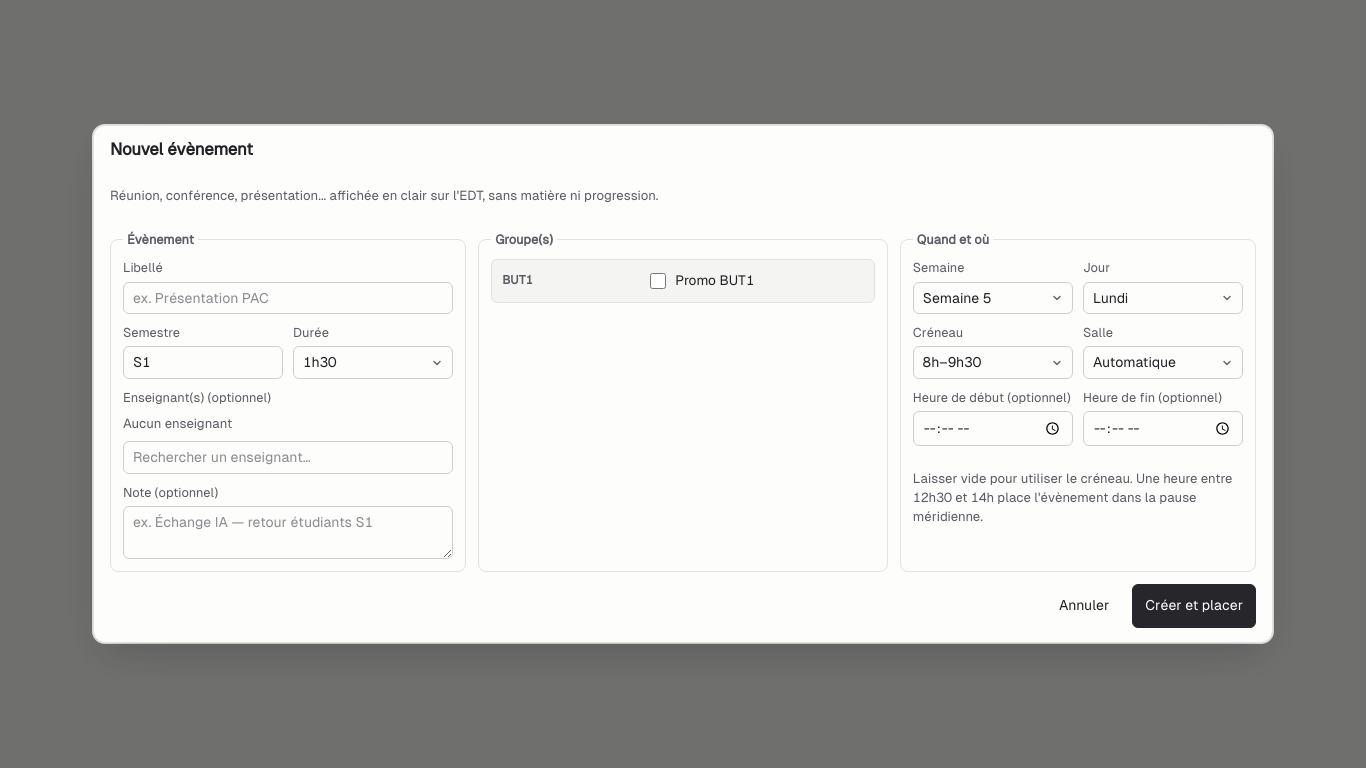
CreerEvenementModal › should refuse heure_debut without heure_fin
Type "Présentation PAC" into the field with placeholder "ex. Présentation PAC". click: {"x": 288, "y": 298}
box: [123, 282, 453, 314]
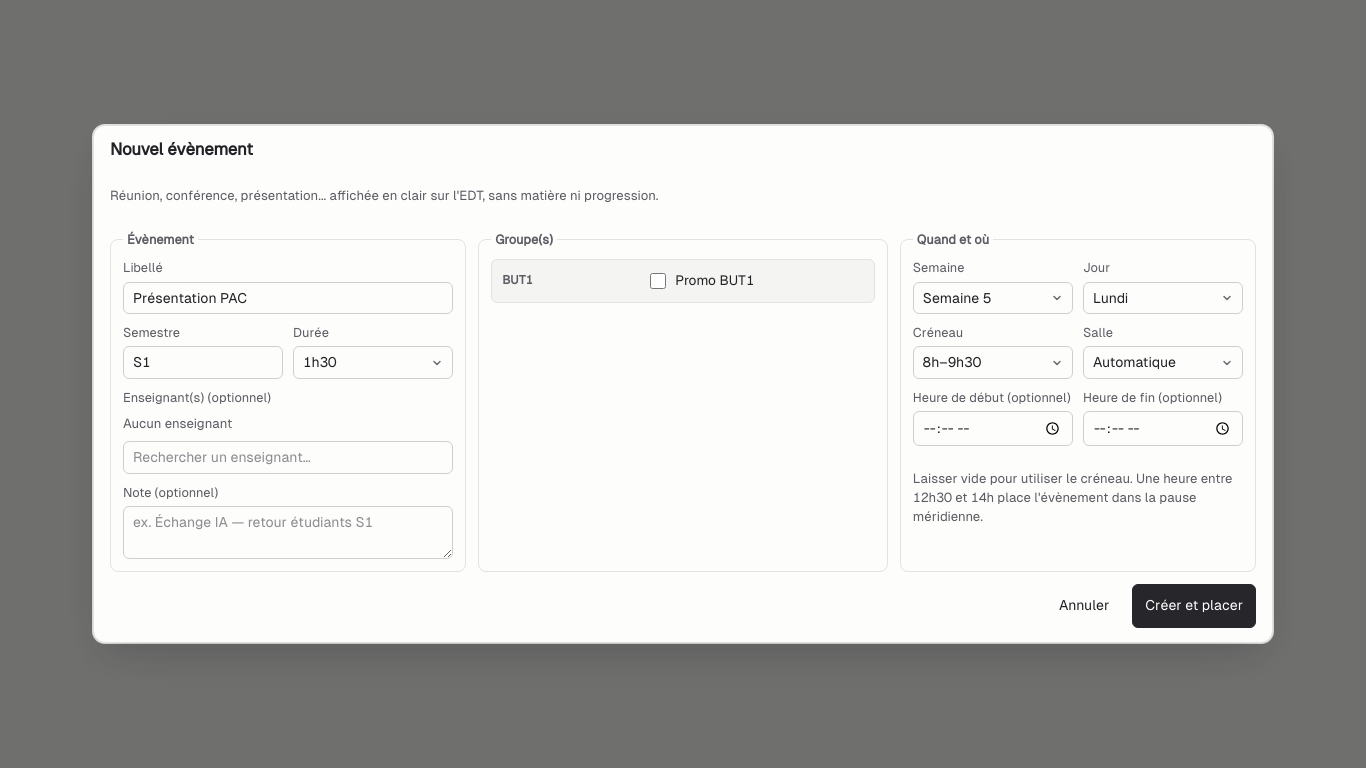
Click the checkbox labelled "Promo BUT1". click: {"x": 658, "y": 281}
box: [650, 273, 666, 289]
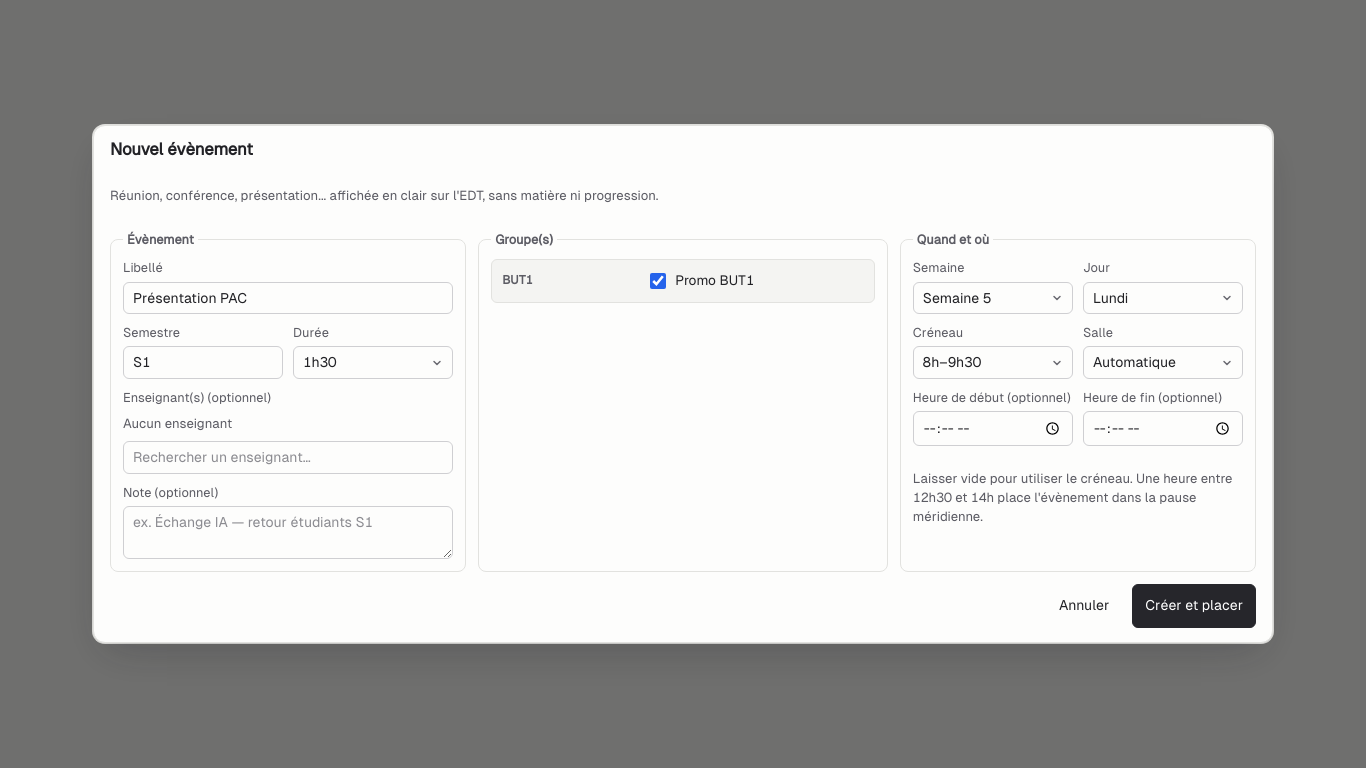
Type "13:15" into the time field labelled "Heure de début (optionnel)". click: {"x": 993, "y": 428}
box: [913, 411, 1073, 446]
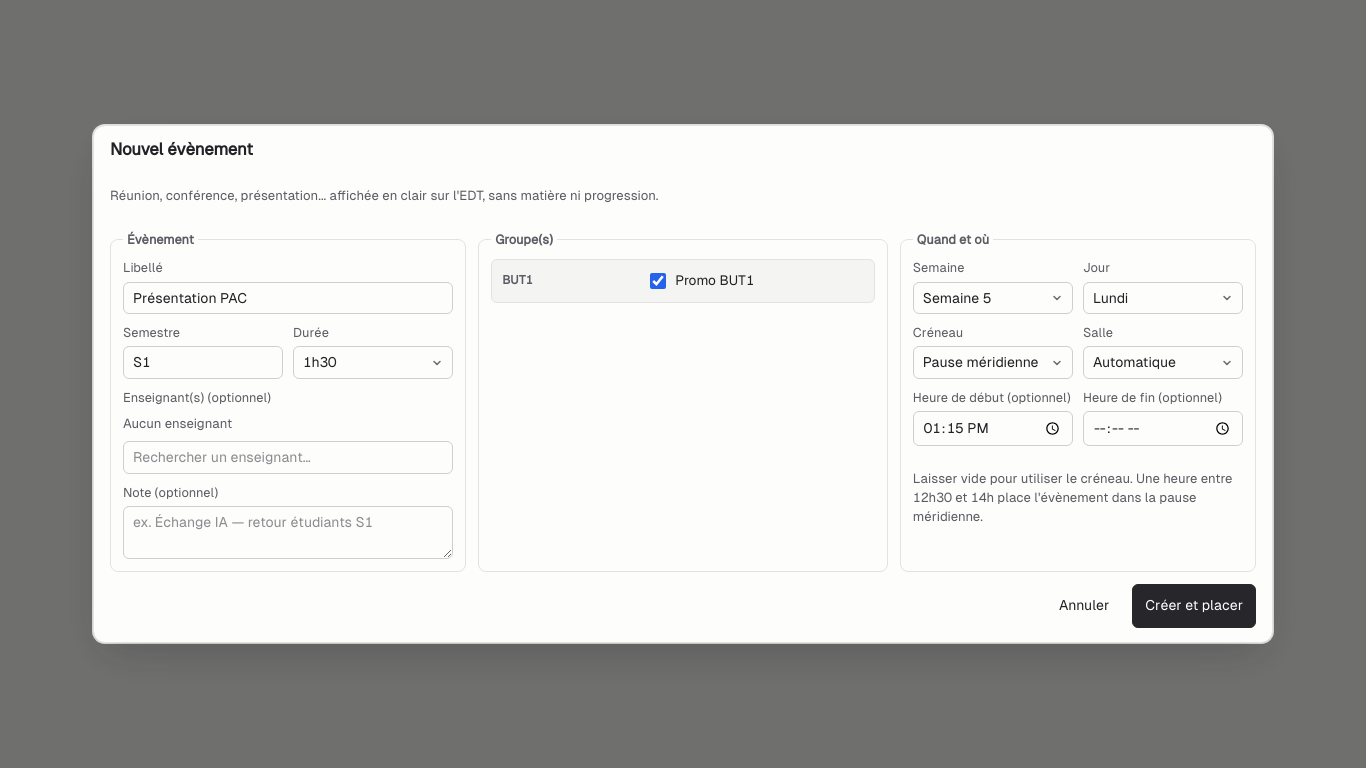
Click the button "Créer et placer". click: {"x": 1194, "y": 606}
box: [1132, 584, 1256, 628]
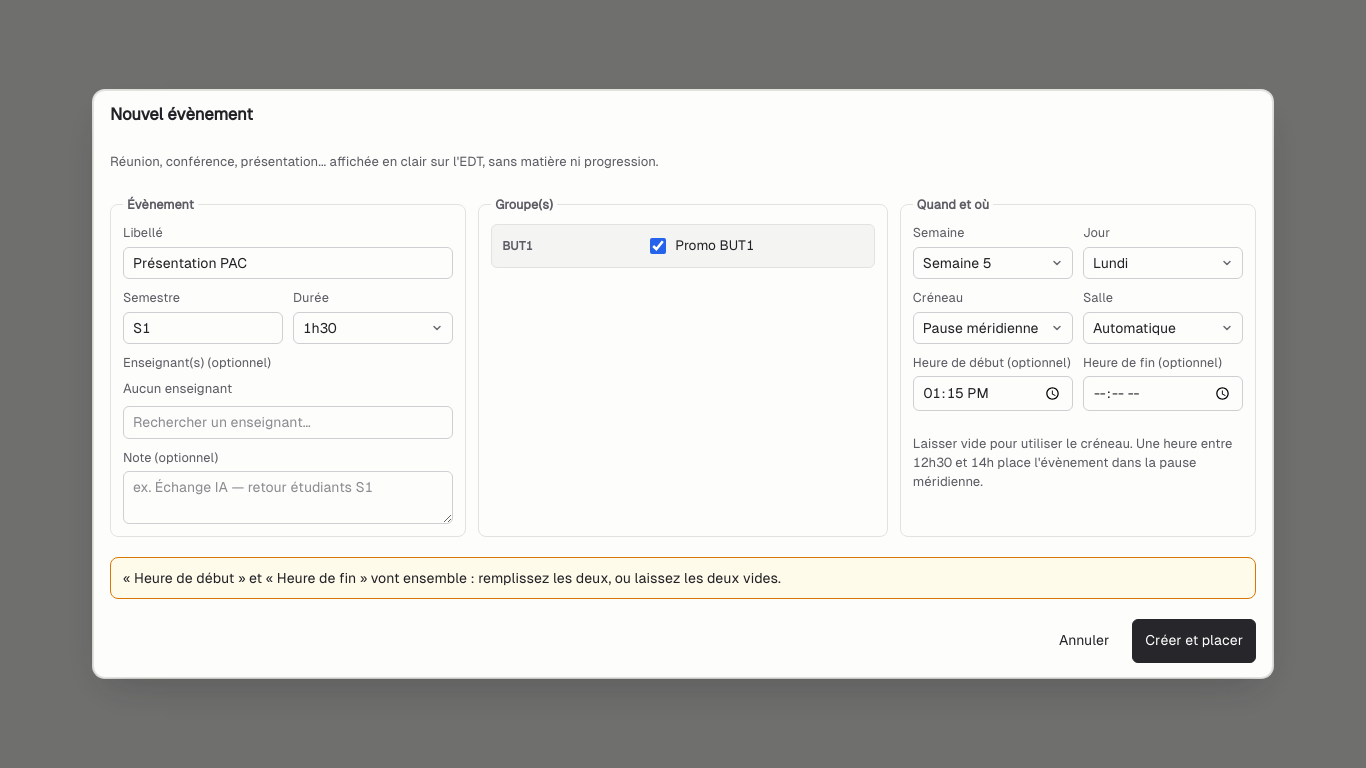
Check: the text "vont ensemble" is shown, box [123, 570, 781, 586]
